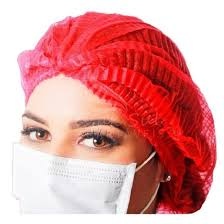with_mask_and_cap: (14, 14, 192, 213)
